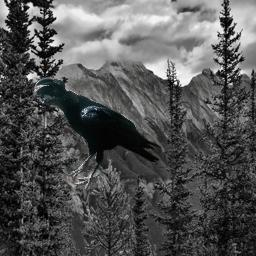Crow: (32, 77, 161, 189)
